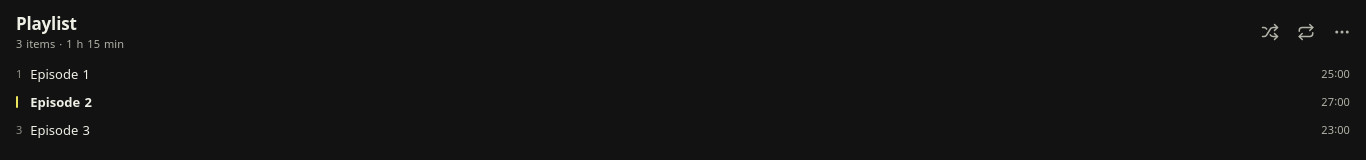
Test: the rows › offer play, the Finder and removal on a secondary click
Later steps or results of the test are not shown.
Right-click the option "1 Episode 1 25:00" at (59, 73), box [8, 60, 1358, 88]
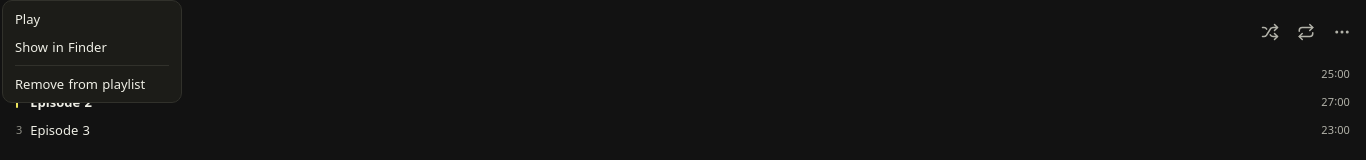
Result: the menu item "Play" is shown at [15, 10, 40, 28]
Click the menu item "Show in Finder" at (61, 47), box [15, 38, 107, 56]
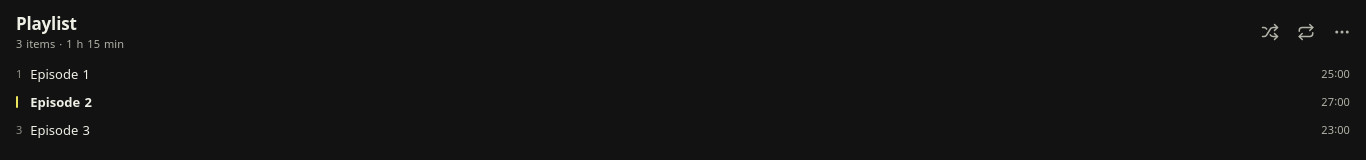
Right-click the option "Episode 2 27:00" at (60, 101), box [8, 88, 1358, 116]
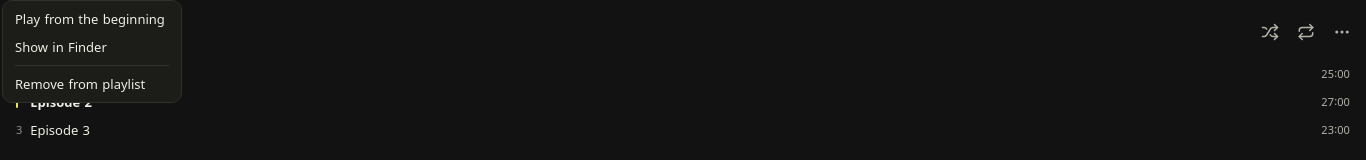
Result: the menu item "Play from the beginning" is shown at [7, 5, 177, 33]
